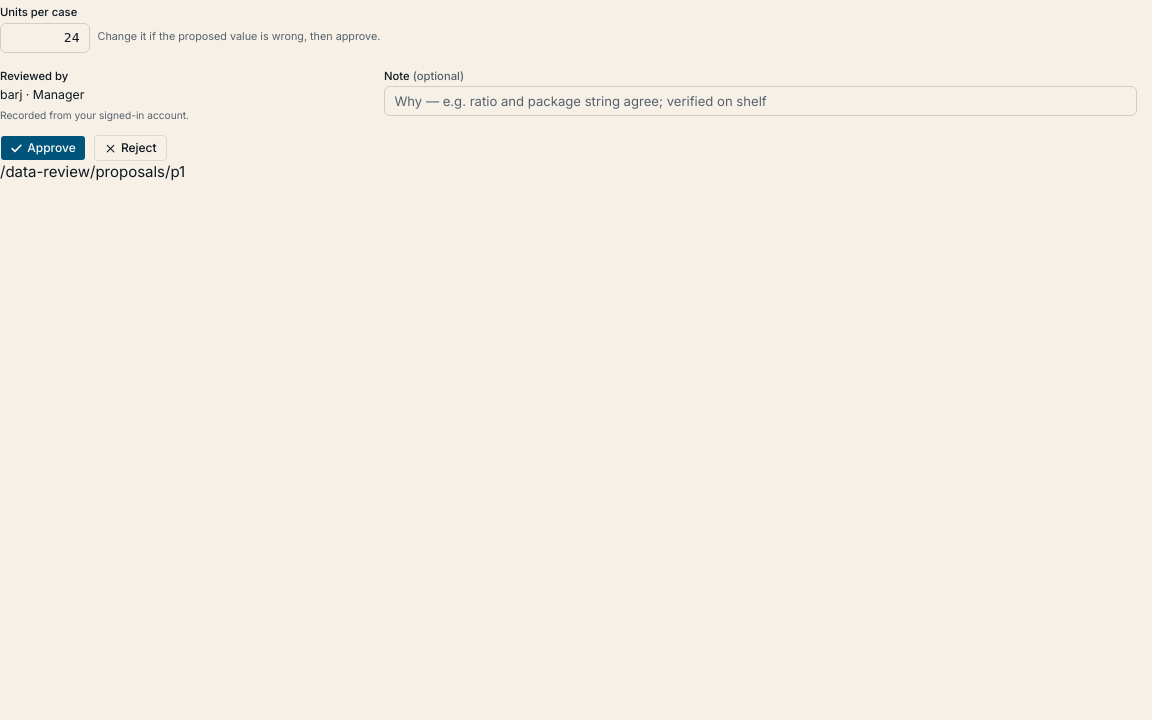
it: DecisionPanel — units per case › reports a saved revision whose approval failed, without claiming success
Replace the text in the field with test id "decision-units" with "10". click: [45, 38]
box: [0,22,90,52]
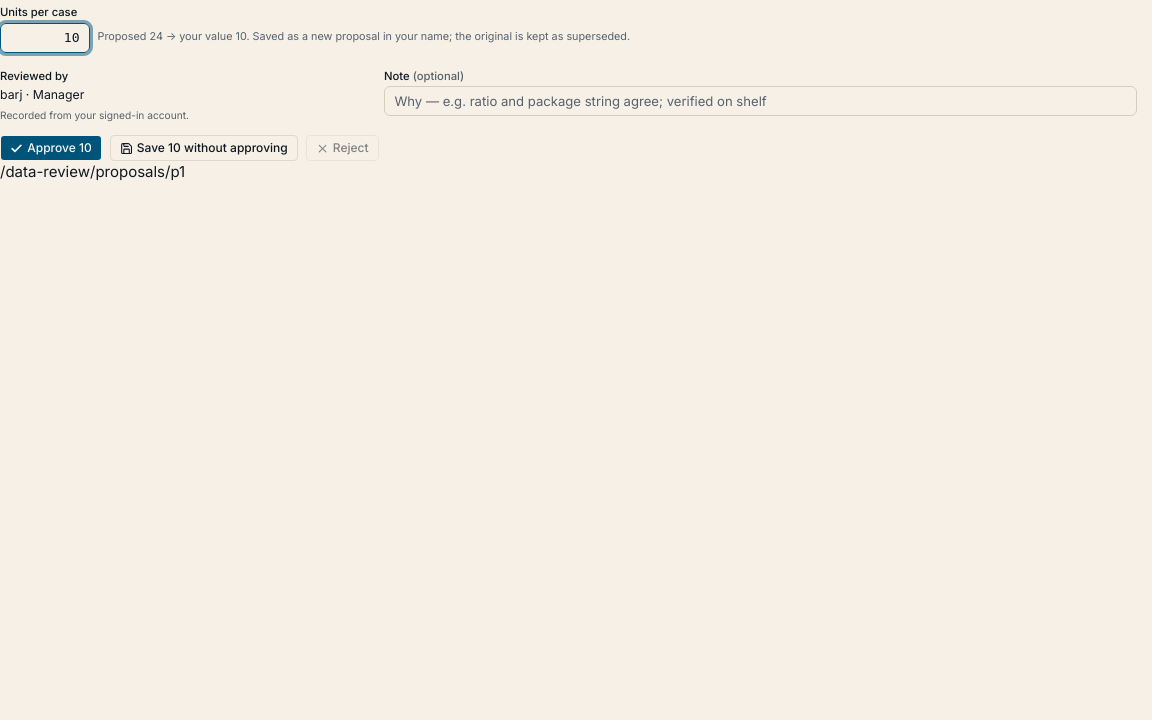
Click the button with test id "decision-approve". click: [51, 148]
box: [0,135,102,161]
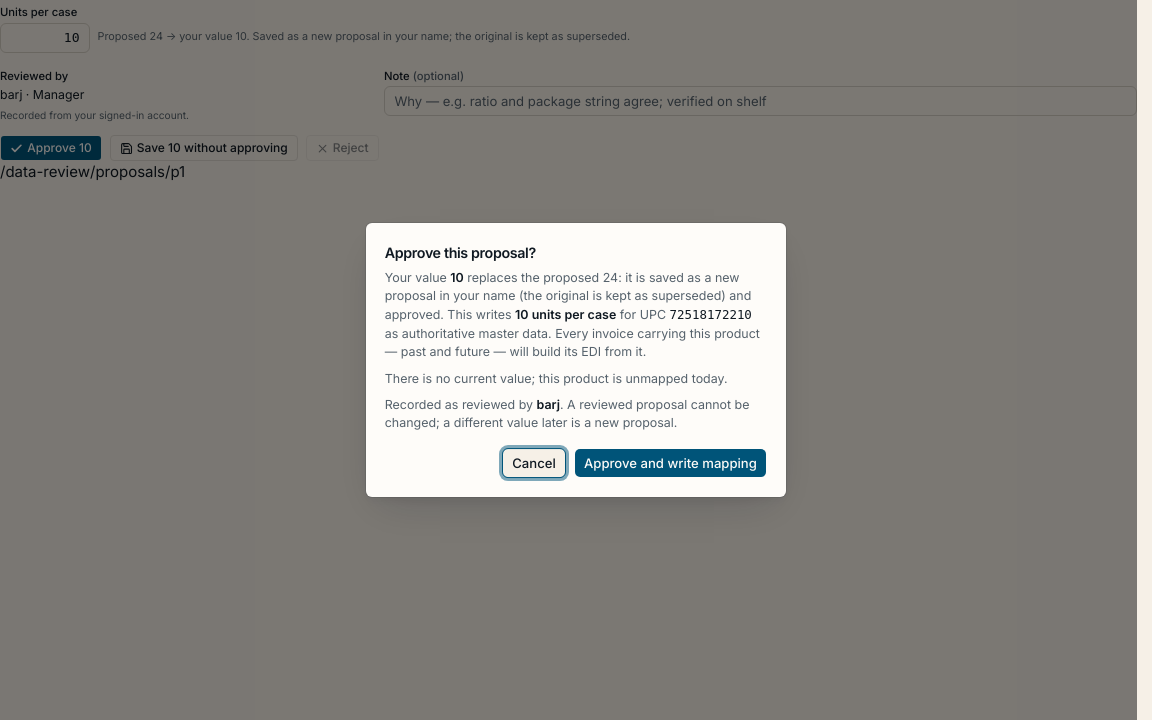
Click the button "Approve and write mapping". click: [670, 463]
box: [574,448,767,478]
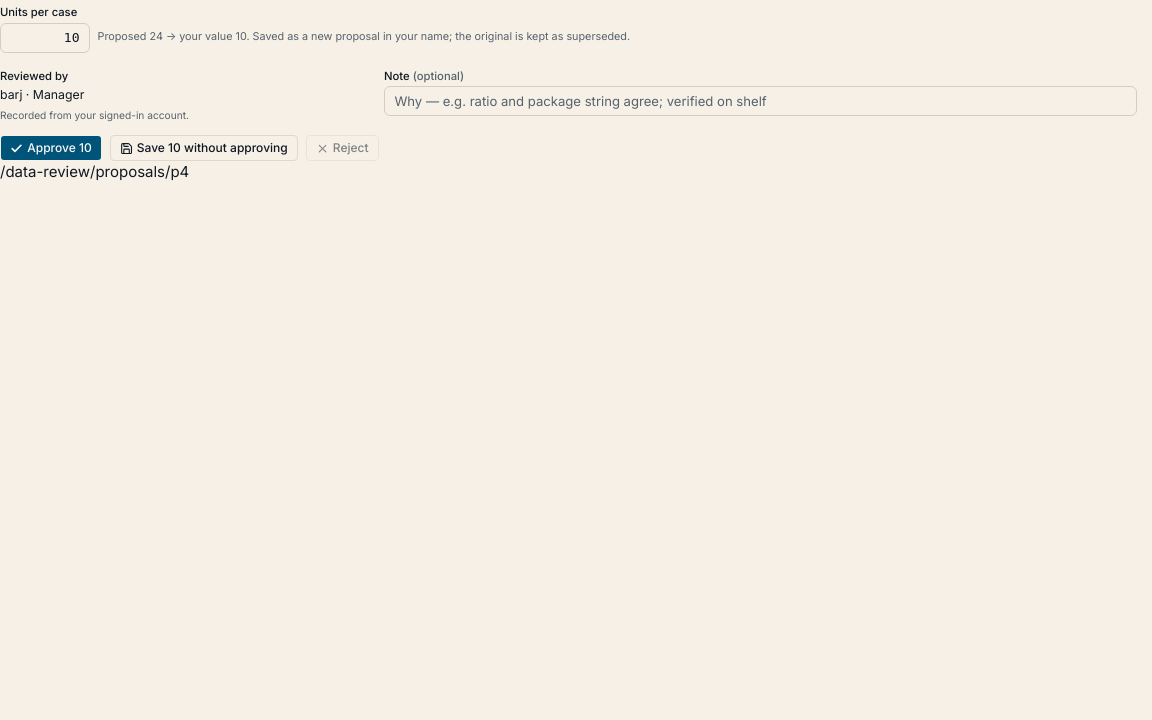
Result: the text with test id "where" reads "/data-review/proposals/p4" at [0,162,189,181]
